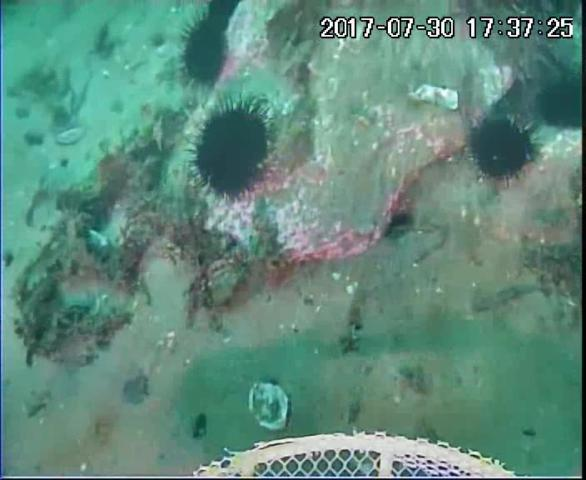echinus: (192, 106, 272, 202), (469, 116, 536, 184), (181, 19, 230, 85), (538, 75, 586, 132), (204, 1, 237, 38)
